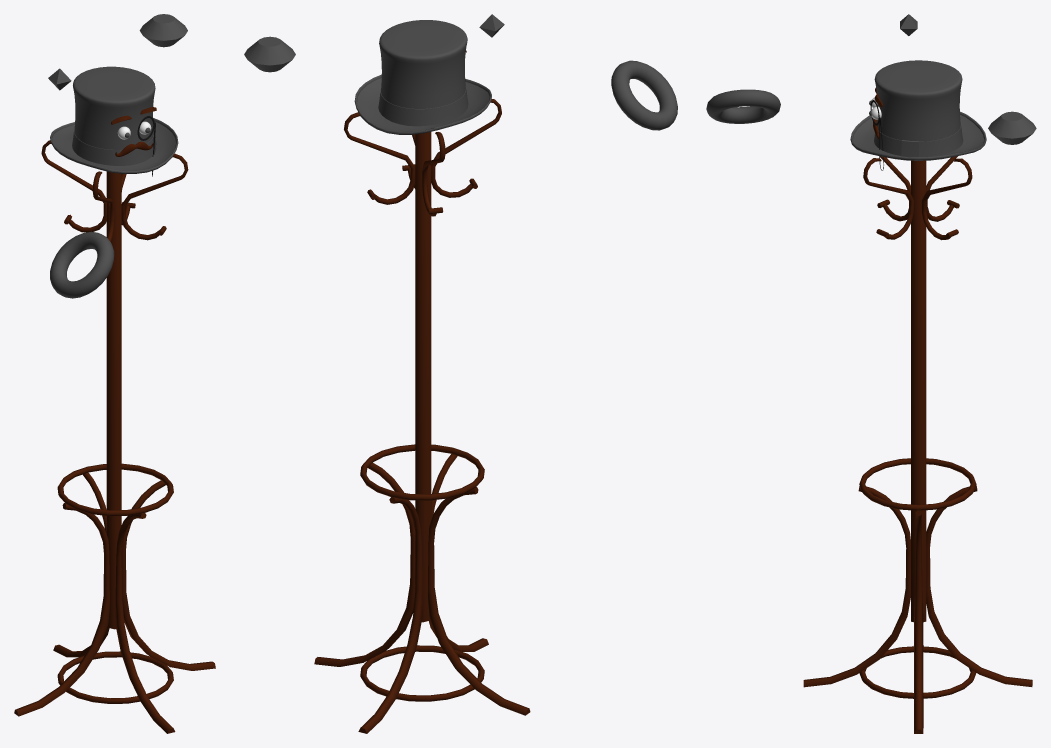
Rendered from floating_shapes6123123.glb.
3 renders of one model, left to right at view 1: azimuth 30°, elevation 25°; view 2: azimuth 150°, elevation 25°; view 3: azimuth 270°, elevation 25°, orthographic. The views are drawn at different scales.
Parts seen in each view (by area): view 1: CoatHanger, CylinderBase, Shape001, ChamferCyl001; view 2: CoatHanger, CylinderBase, Shape001, ChamferCyl001; view 3: CoatHanger, CylinderBase, Shape001, ChamferCyl001.
Part boxes in pixels (left/top/right/bottom): CoatHanger: left=14, top=140, right=215, bottom=733; CylinderBase: left=50, top=66, right=178, bottom=173; Shape001: left=50, top=231, right=114, bottom=298; ChamferCyl001: left=139, top=14, right=187, bottom=47; CoatHanger: left=314, top=99, right=530, bottom=733; CylinderBase: left=354, top=20, right=491, bottom=134; Shape001: left=611, top=60, right=677, bottom=130; ChamferCyl001: left=244, top=36, right=295, bottom=72; CoatHanger: left=803, top=156, right=1032, bottom=733; CylinderBase: left=850, top=60, right=986, bottom=160; Shape001: left=706, top=89, right=780, bottom=123; ChamferCyl001: left=988, top=111, right=1036, bottom=144.
Bounding box in the file's own units: 229 × 535 × 249.
